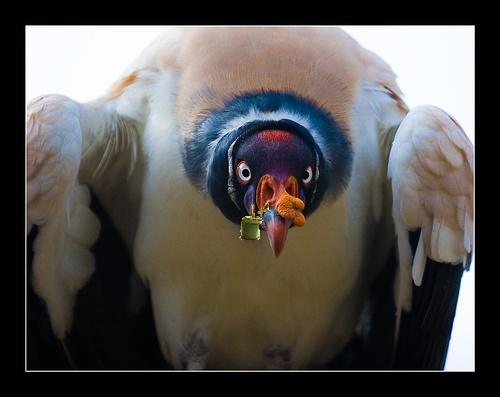tampered: (240, 204, 269, 240)
